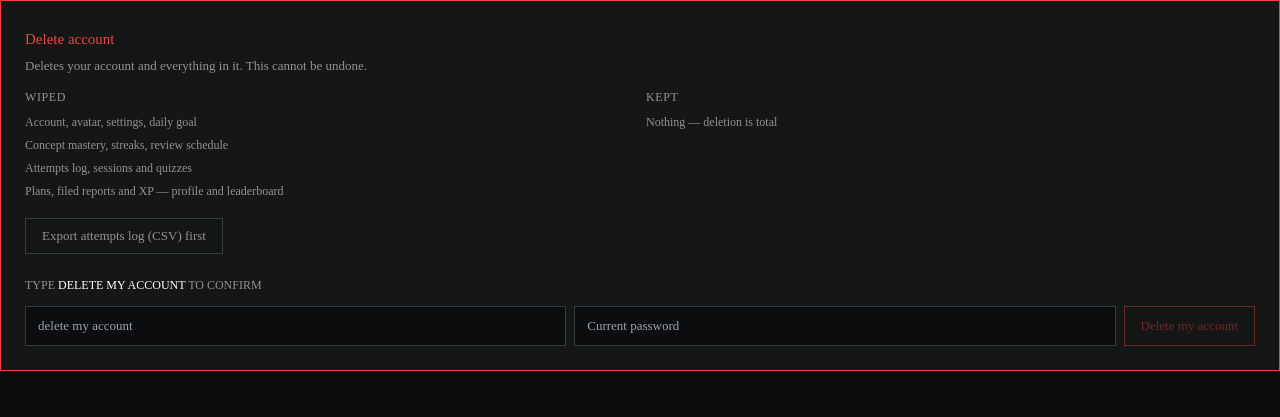
Scenario: DeleteAccount › keeps delete disabled until the exact phrase is typed
This screenshot has width=1280, height=417.
Expected: the button "Delete my account" is disabled, [1124,306,1255,346]
Type "delete" into the field labelled "Type delete my account to confirm" at (296, 326), box [25,306,566,346]
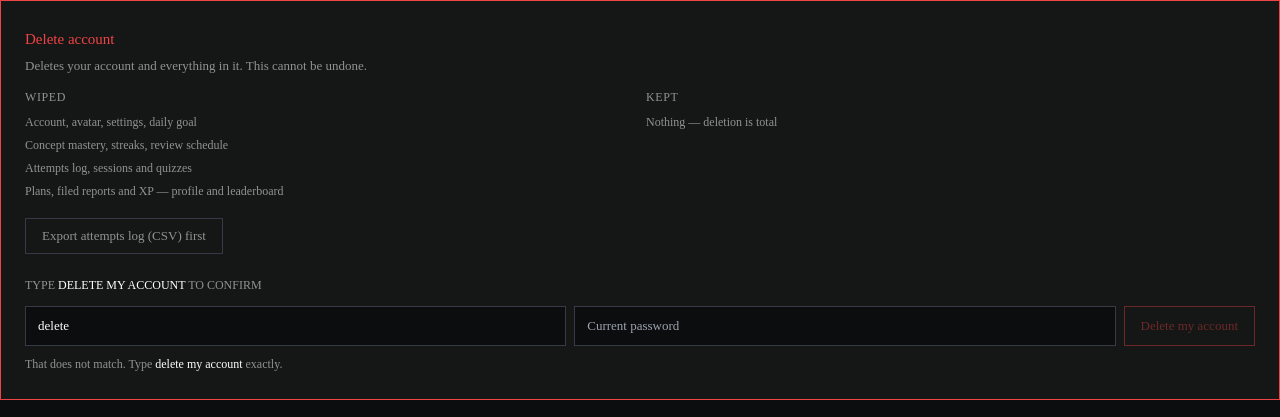
Expected: the button "Delete my account" is disabled, [1124,306,1255,346]
Replace the text in the field labelled "Type delete my account to confirm" with "delete my account" at (296, 326), box [25,306,566,346]
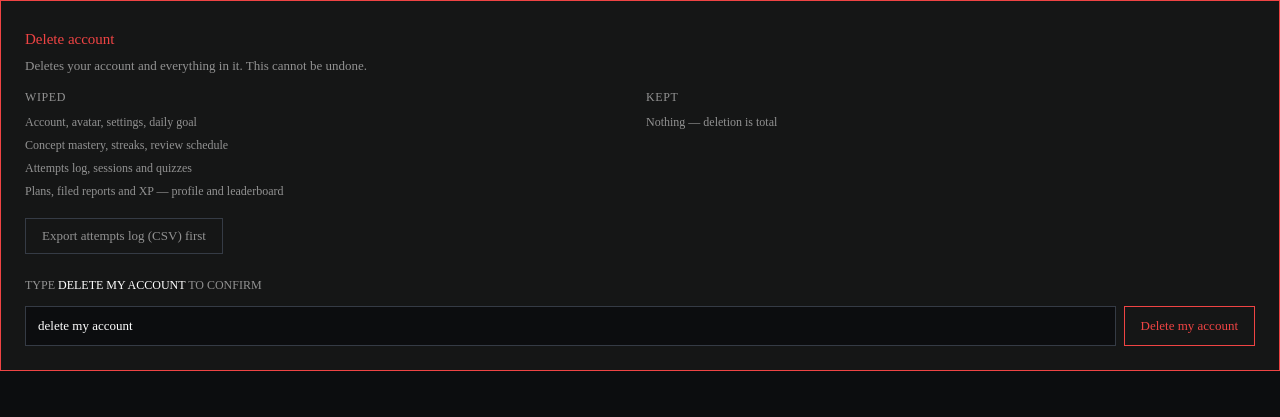
Now the button "Delete my account" is enabled, box [1124,306,1255,346]
